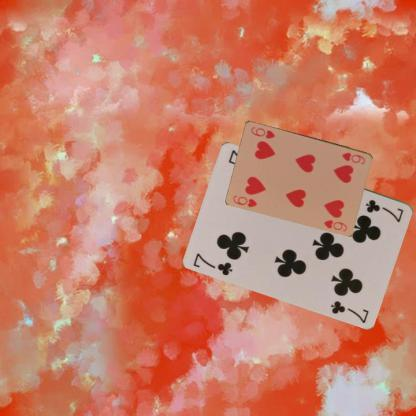6h: (230, 192, 259, 209), (339, 150, 366, 166)
7c: (191, 249, 235, 276), (363, 196, 405, 224)
